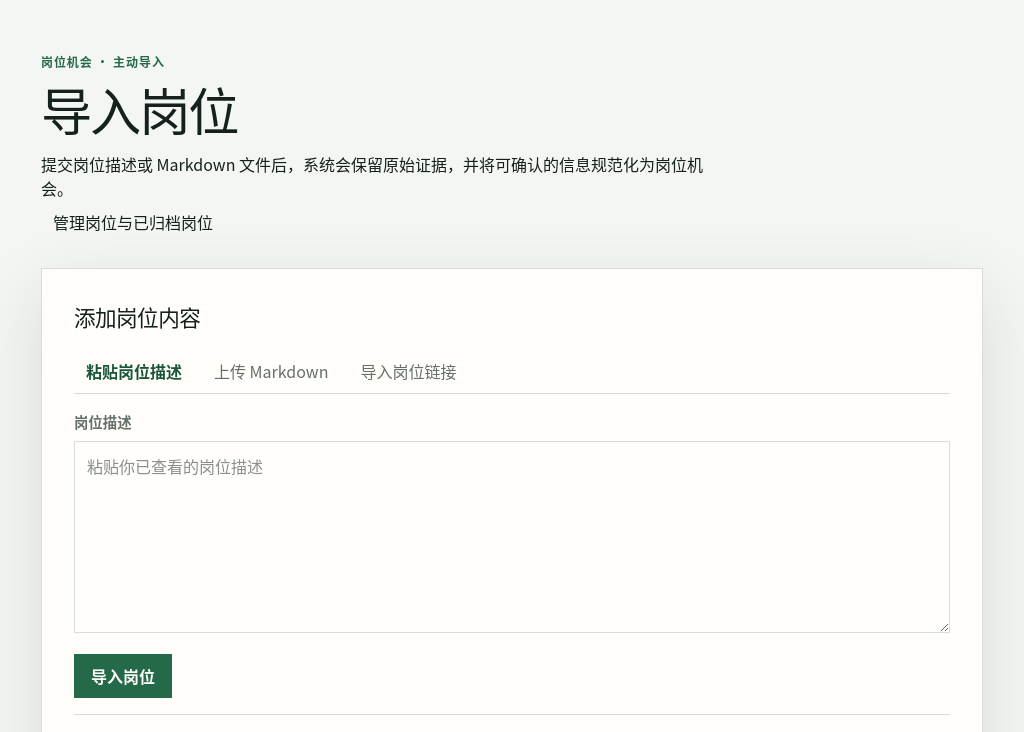
Test: 用简短中文提示轮询和提交失败
In the text box labelled "岗位描述": (512, 537) x1=74 y1=441 x2=950 y2=633, type "岗位正文"
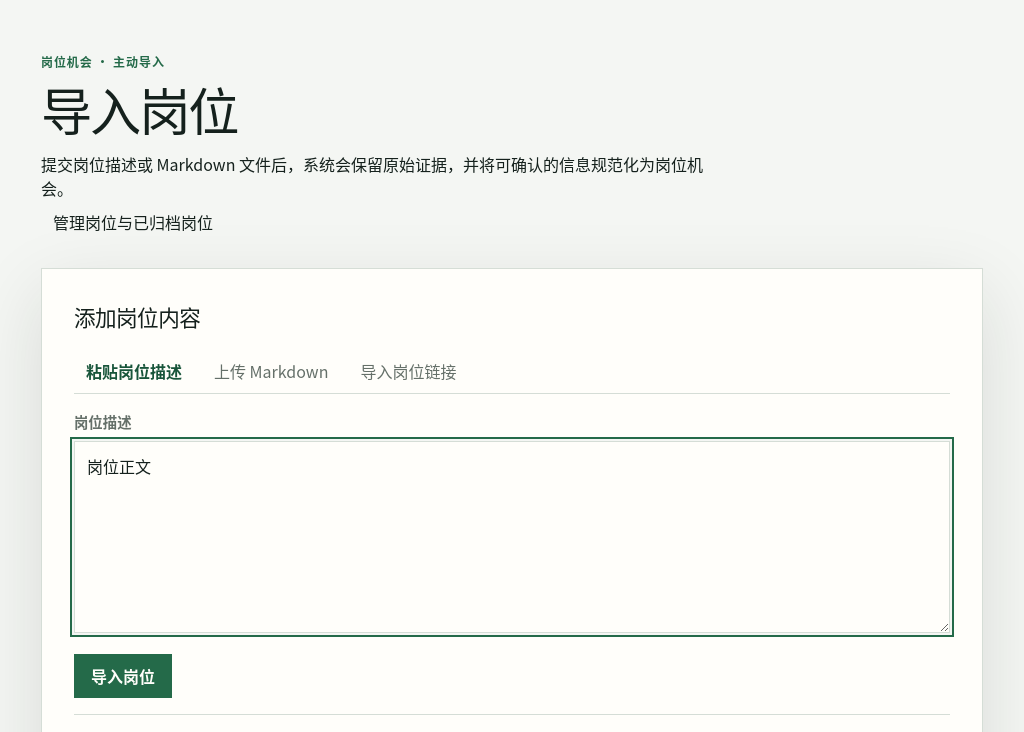
Click the button "导入岗位": (123, 676) x1=74 y1=654 x2=172 y2=698
(page scrolled)
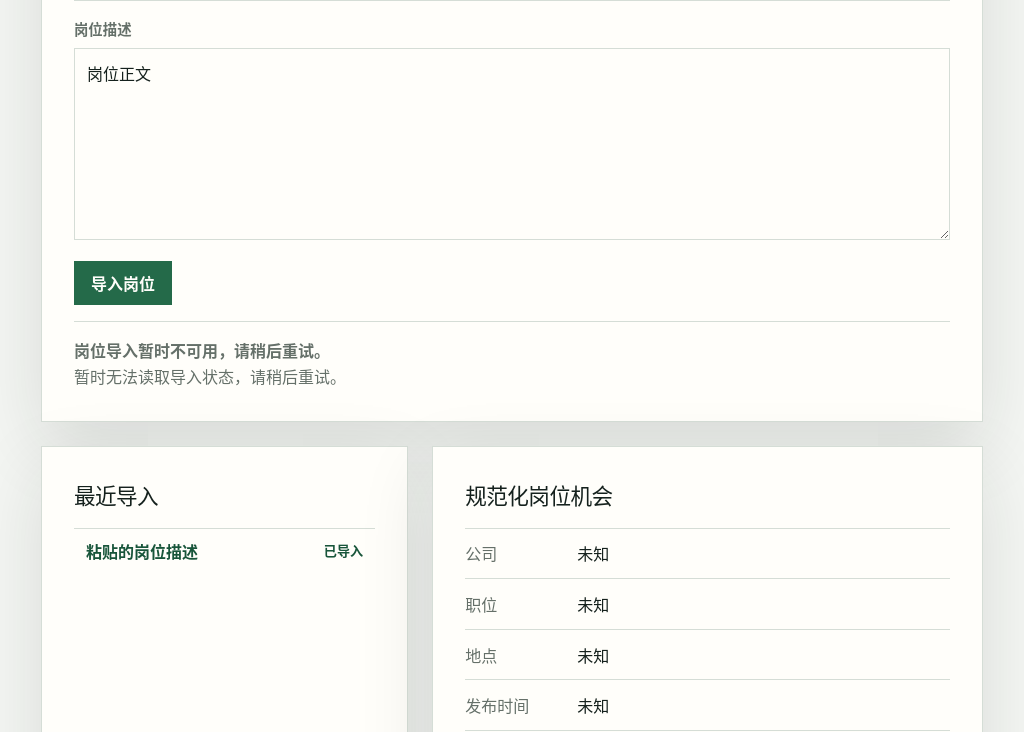
Check: the text "暂时无法读取导入状态，请稍后重试。" is shown, box x1=74 y1=364 x2=346 y2=388
Check: the message reads "岗位导入暂时不可用，请稍后重试。", box x1=74 y1=338 x2=330 y2=362
